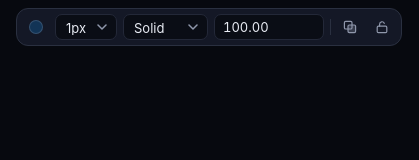
Test case: DrawingStyleBar › price of horizontal drawings › Escape reverts the field to the current price without applying (and is not propagated)
This screenshot has width=419, height=160.
Replace the text in the number field named "Price" with "150" at coordinates (269, 27), box [214,14,324,40]
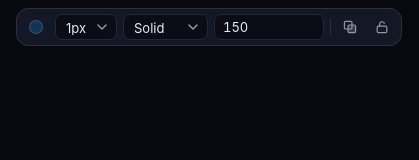
Press Escape in the number field named "Price", box [214,14,324,40]
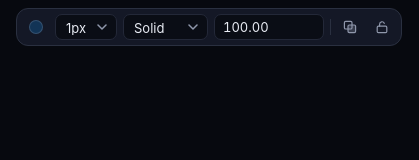
Check: the number field named "Price" holds "100.00", box [214,14,324,40]
